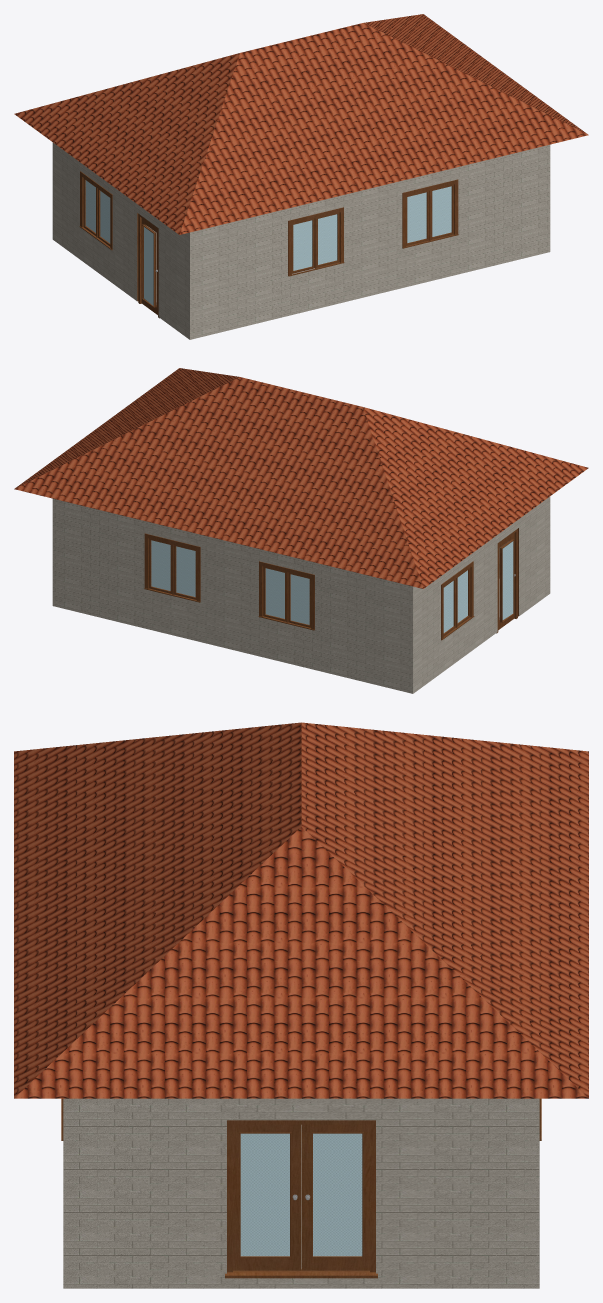
Rendered from telhado33.gltf.
3 views of the same model, one above another, from view 1: azimuth 30°, elevation 25°; view 2: azimuth 150°, elevation 25°; view 3: azimuth 270°, elevation 25° (orthographic). The views are drawn at different scales.
Parts seen in each view (by area): view 1: root; view 2: root; view 3: root.
Boxes of the visible parts, x1,y1,x2,y2 form: root: (14,14,588,339); root: (14,368,588,693); root: (14,722,588,1288).
Size of the model in its own units: 10 by 4.89 by 7.
9 materials, 7 textured.
